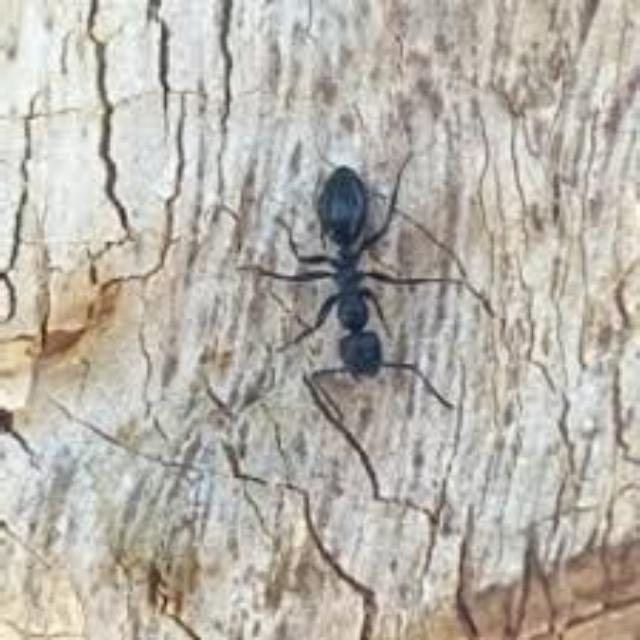Colobopsis: (272, 136, 440, 416)
